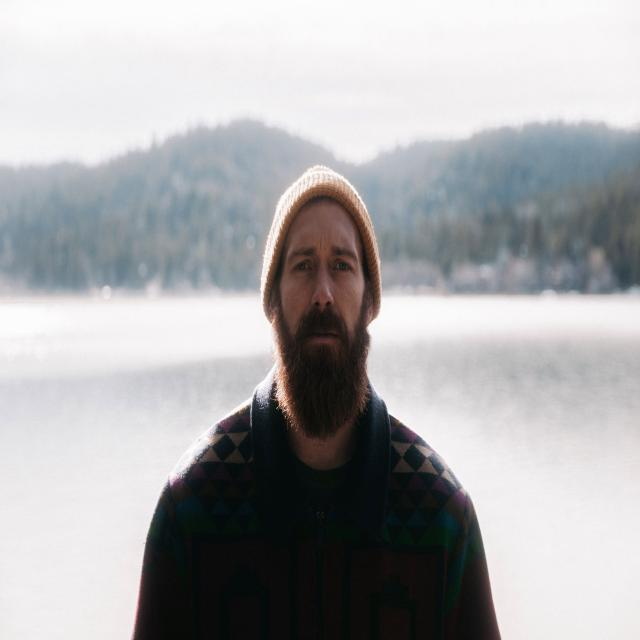adult: (137, 168, 492, 640)
